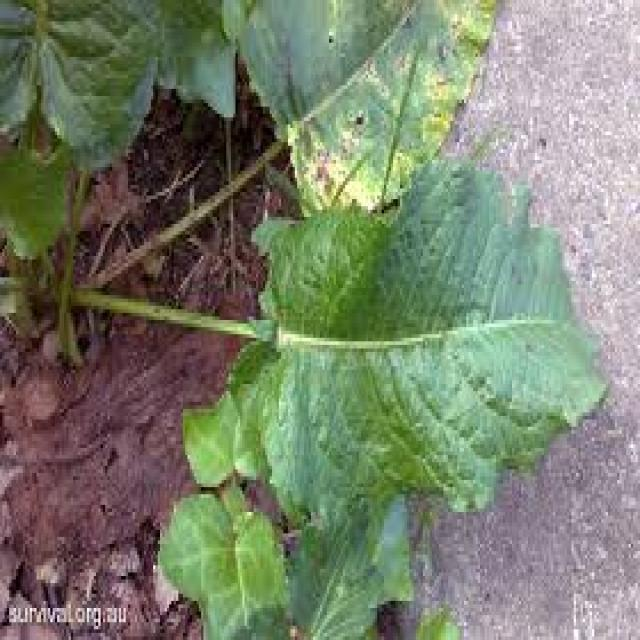organic waste: (2, 0, 639, 597)
